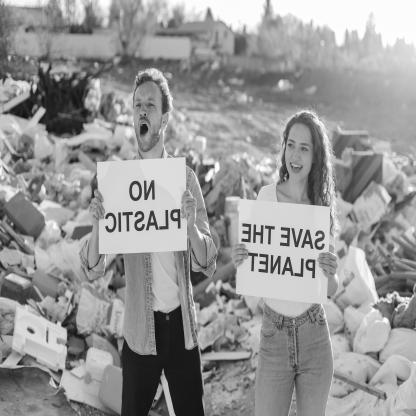Eye: (147, 102, 156, 108), (135, 102, 141, 108), (301, 148, 308, 152), (288, 144, 294, 147)
Mouth: (290, 162, 304, 174), (140, 121, 148, 138)
Nose: (140, 104, 148, 118), (292, 147, 300, 161)
